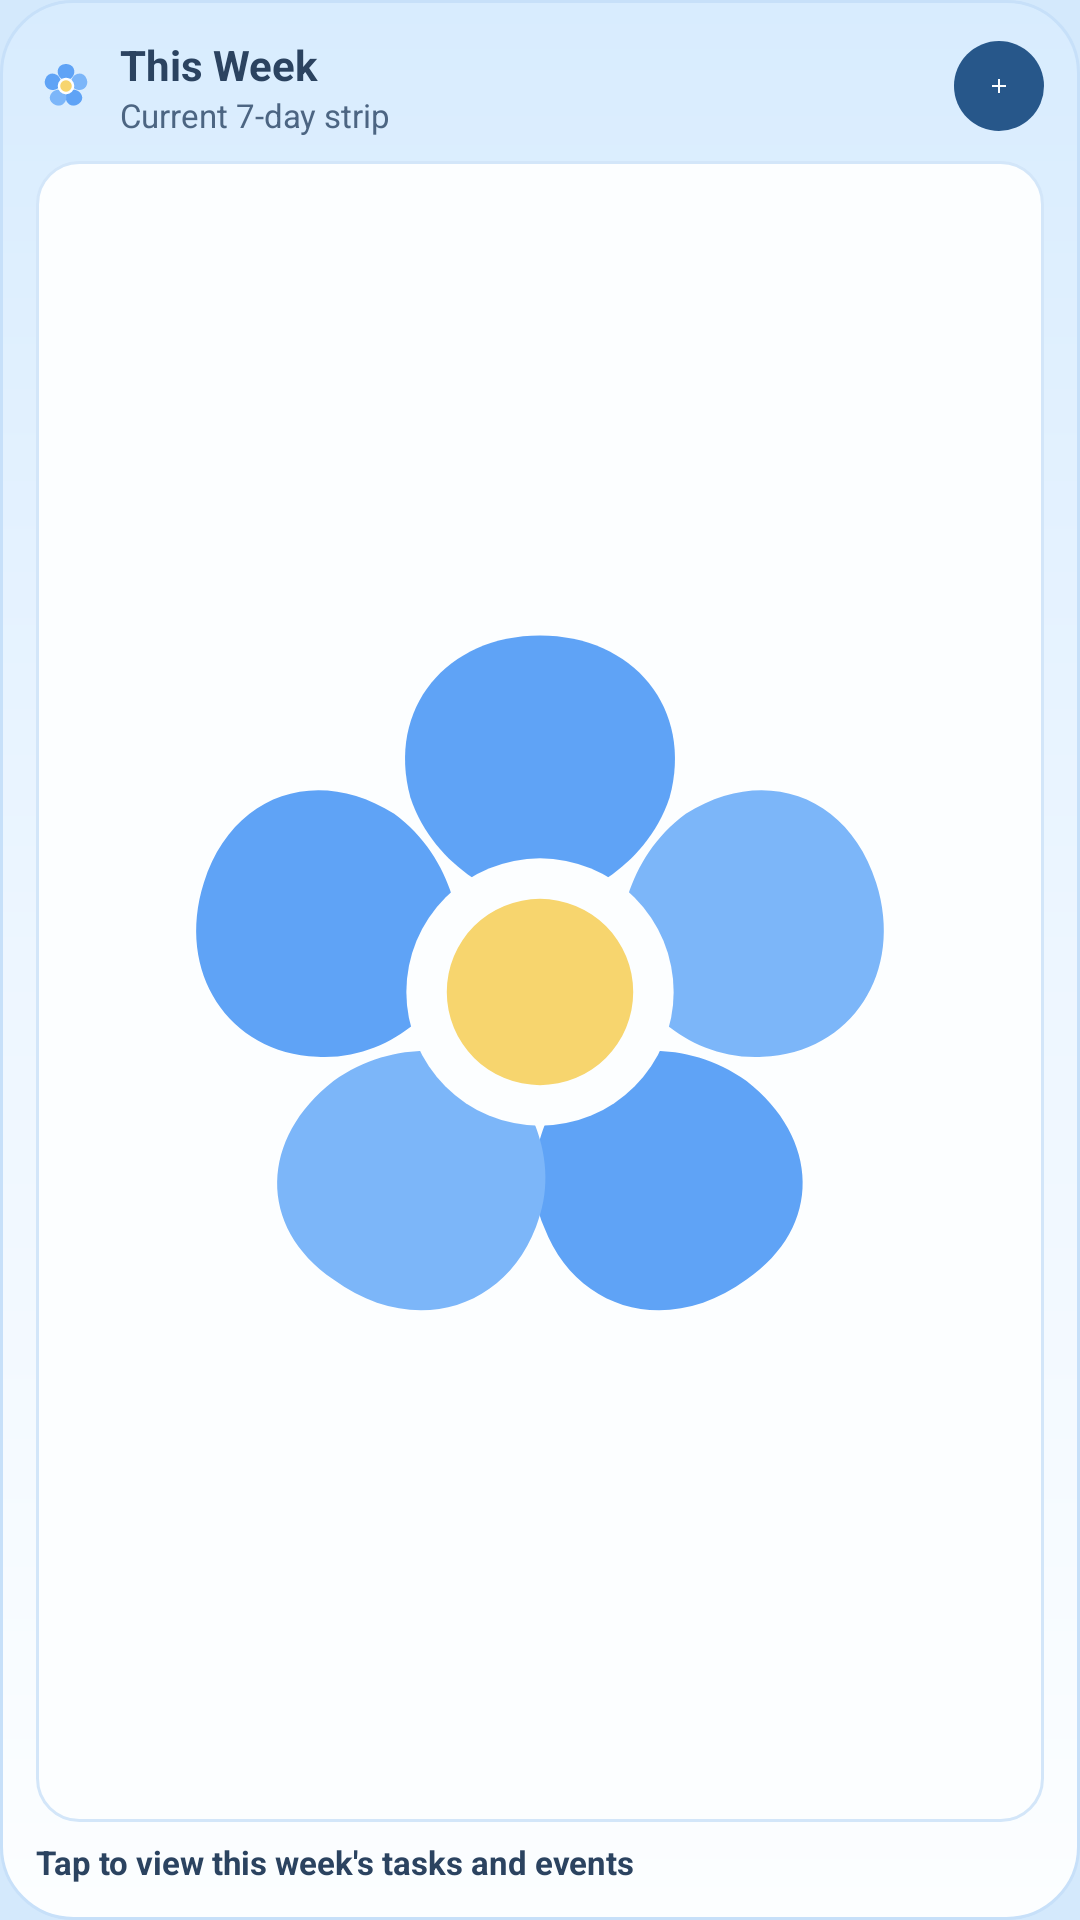

Screen size 1080 x 1920. Icon name, then its center in pixels as (x=x, y=y):
Add event or plan: (x=999, y=86)
